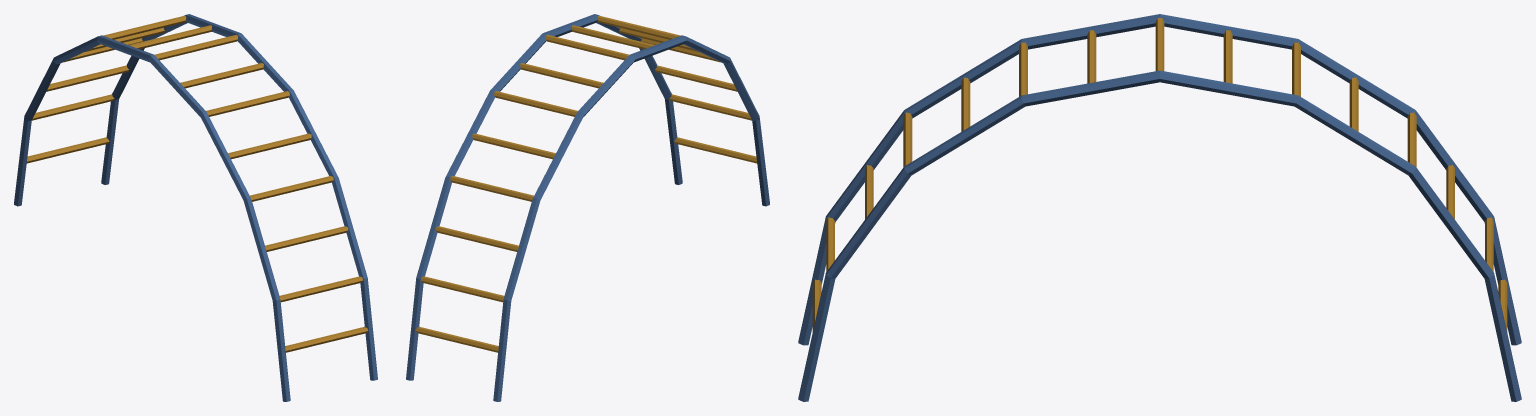
File: SM_Props_City_PlayGround_Equipment_02.fbx
The picture shows the model from 3 angles, left to right: view 1: azimuth 30°, elevation 25°; view 2: azimuth 150°, elevation 25°; view 3: azimuth 270°, elevation 25°; orthographic projection. The views are drawn at different scales.
Parts seen in each view (by area): view 1: SM_Props_City_PlayGround_Equipment_02; view 2: SM_Props_City_PlayGround_Equipment_02; view 3: SM_Props_City_PlayGround_Equipment_02.
Boxes of the visible parts, x1,y1,x2,y2 form: SM_Props_City_PlayGround_Equipment_02: (14, 14, 377, 401); SM_Props_City_PlayGround_Equipment_02: (406, 14, 769, 401); SM_Props_City_PlayGround_Equipment_02: (798, 14, 1521, 401).
Bounding box in the file's own units: 98 × 244 × 487.
